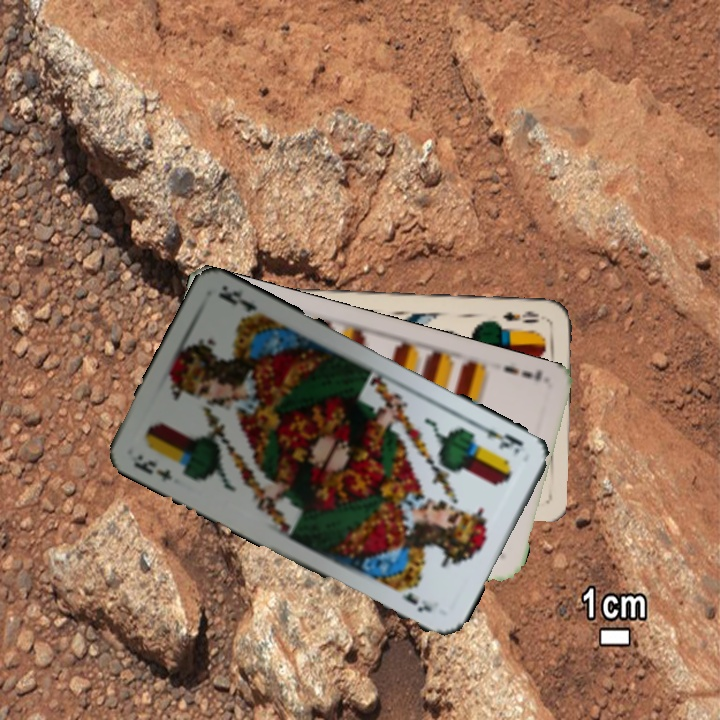E7: (500, 361, 545, 384)
EK: (473, 419, 528, 458), (129, 450, 175, 485)
EO: (499, 307, 542, 326)
